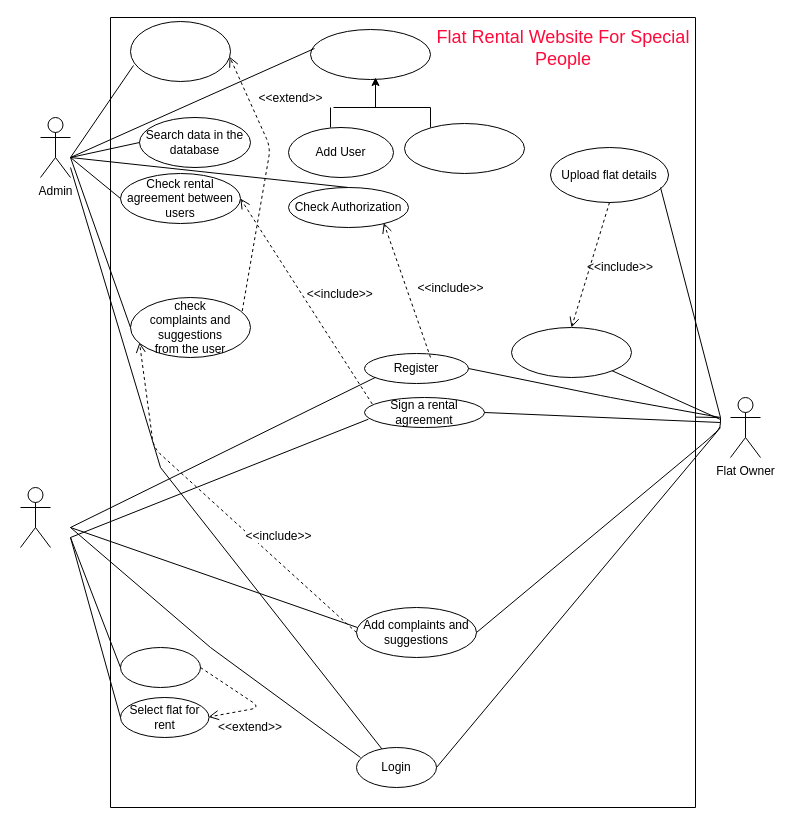
The diagram is 792 pixels wide and 825 high, and some of its shapes have lost their labels. The box of each missing label's shape, as (x1, y1, x2, y2) in pixels:
Add reviews on users: (130, 20, 230, 82)
Delete User: (404, 122, 524, 174)
Search flat for rent: (120, 646, 200, 688)
Tenant: (20, 486, 50, 548)
Update Databse: (310, 28, 430, 80)
Upload photos of flat: (510, 326, 632, 378)
